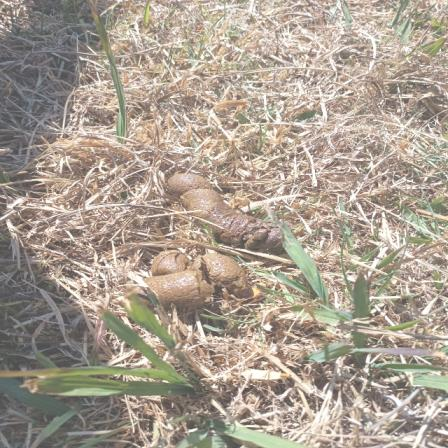dog-poop: (172, 164, 298, 250), (152, 246, 254, 315)
